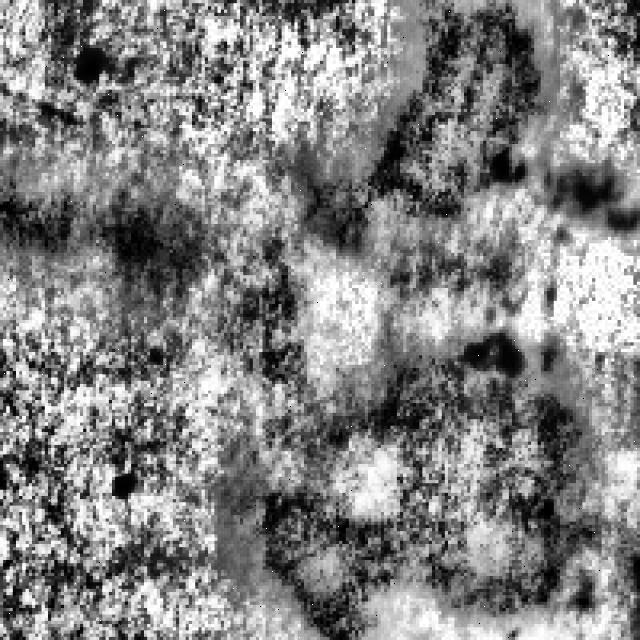Patches: (496, 148, 630, 236), (458, 294, 556, 378)
Scratches: (234, 346, 586, 634), (298, 0, 540, 237), (0, 170, 195, 284)
